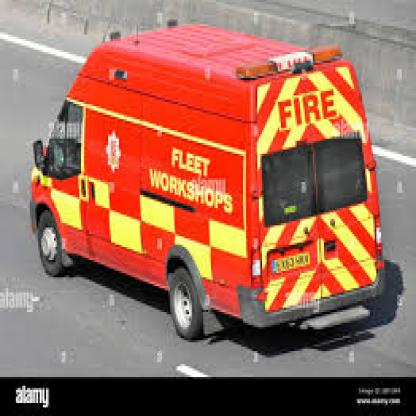van: (27, 20, 389, 344)
